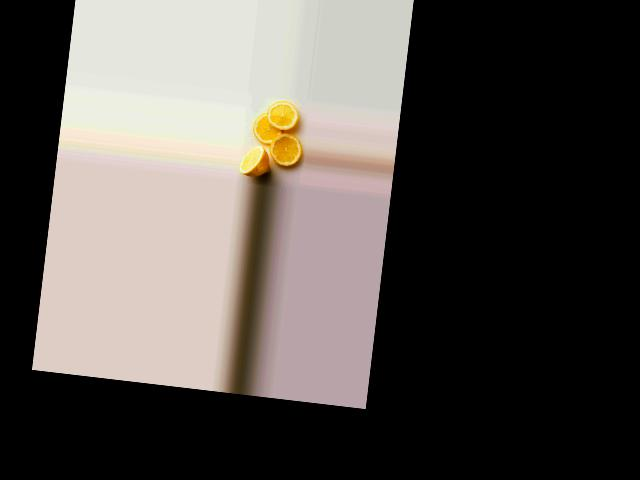lemon: (238, 143, 270, 180)
